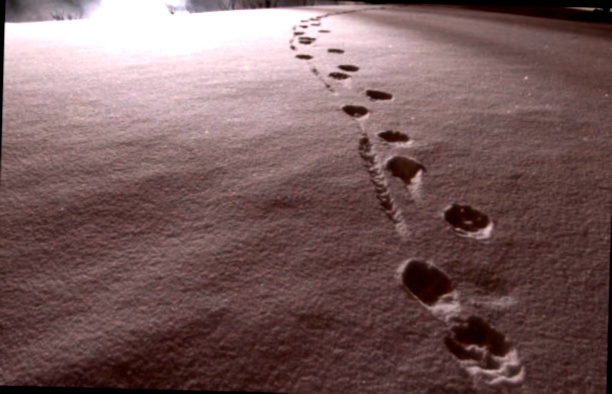loup: (66, 301, 172, 388)
